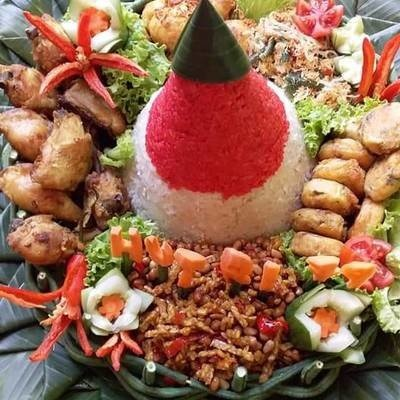tumpeng: (122, 2, 306, 220)
